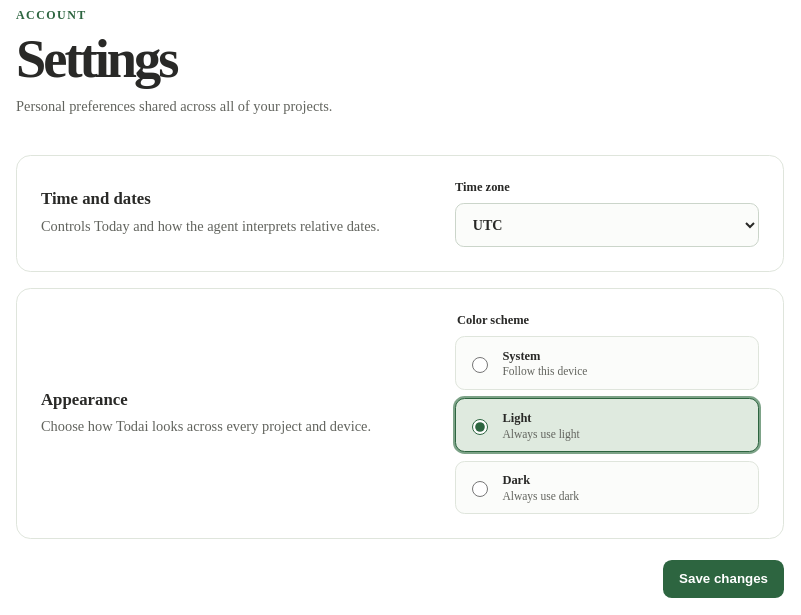
Test: Settings page › keeps an unsaved appearance draft when the server reports a conflict
This screenshot has width=801, height=615.
Click the radio button labelled "Dark Always use dark": click(480, 489) [472,481,488,497]
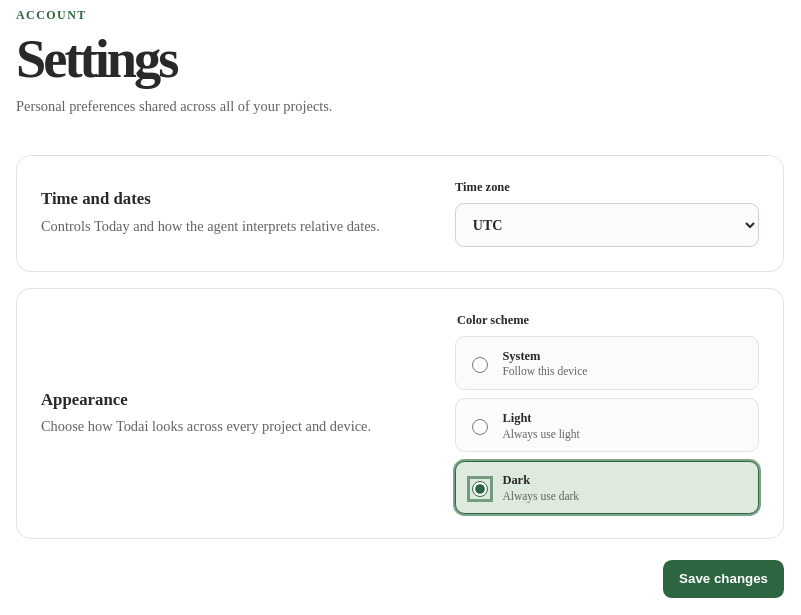
Click the button "Save changes": click(724, 579) [663,560,784,598]
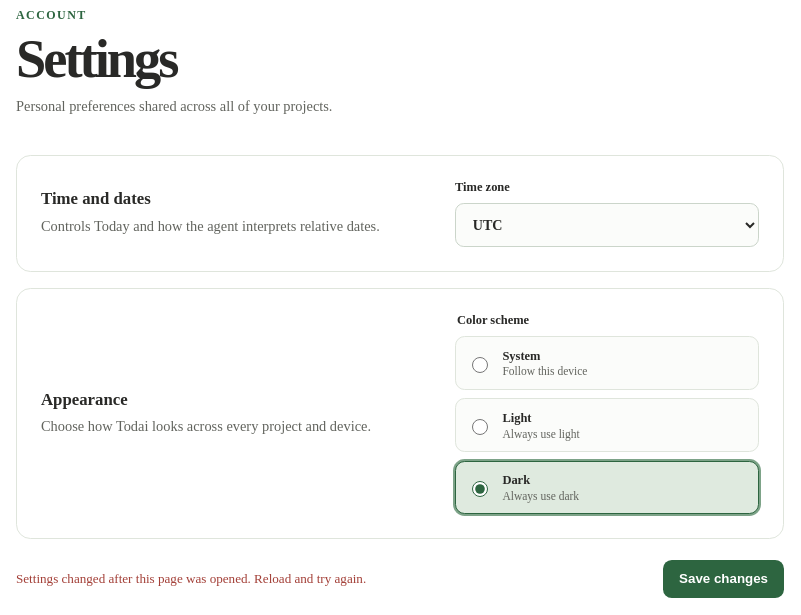
Now the radio button labelled "Dark Always use dark" is checked, box [472,481,488,497]
Now the message shows "Settings changed", box [16,571,366,586]
